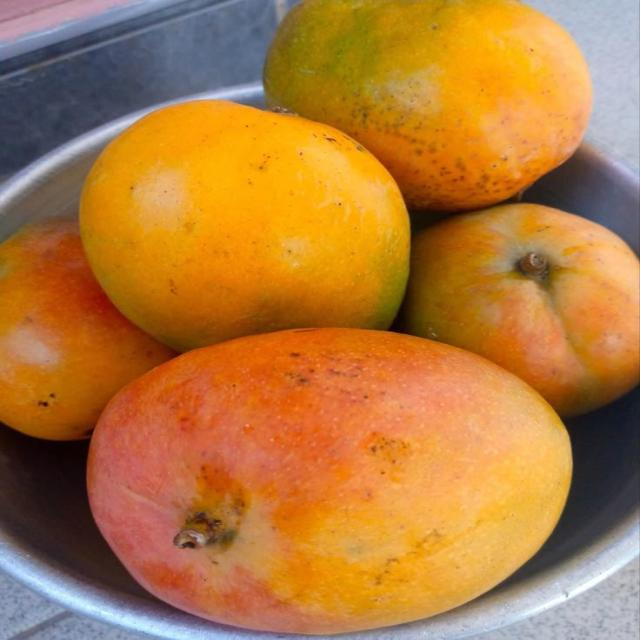mango: (87, 328, 572, 634), (80, 99, 408, 352), (263, 0, 590, 209), (397, 202, 639, 416), (0, 217, 177, 440)
